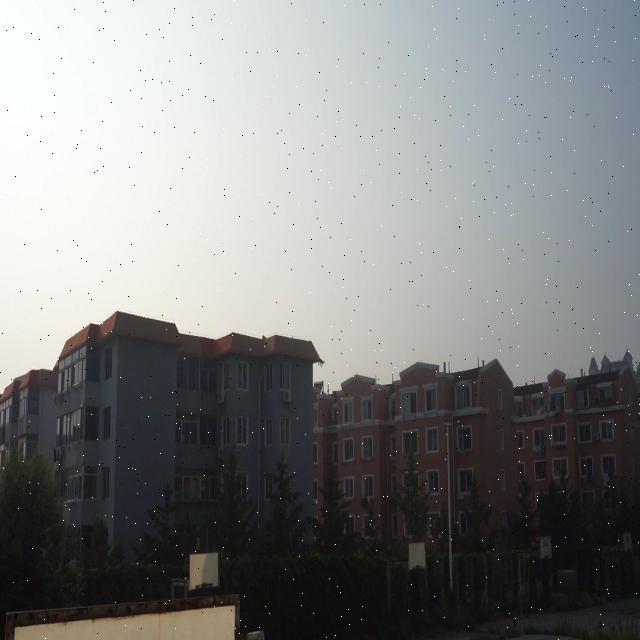UAV: (318, 357, 325, 368)
